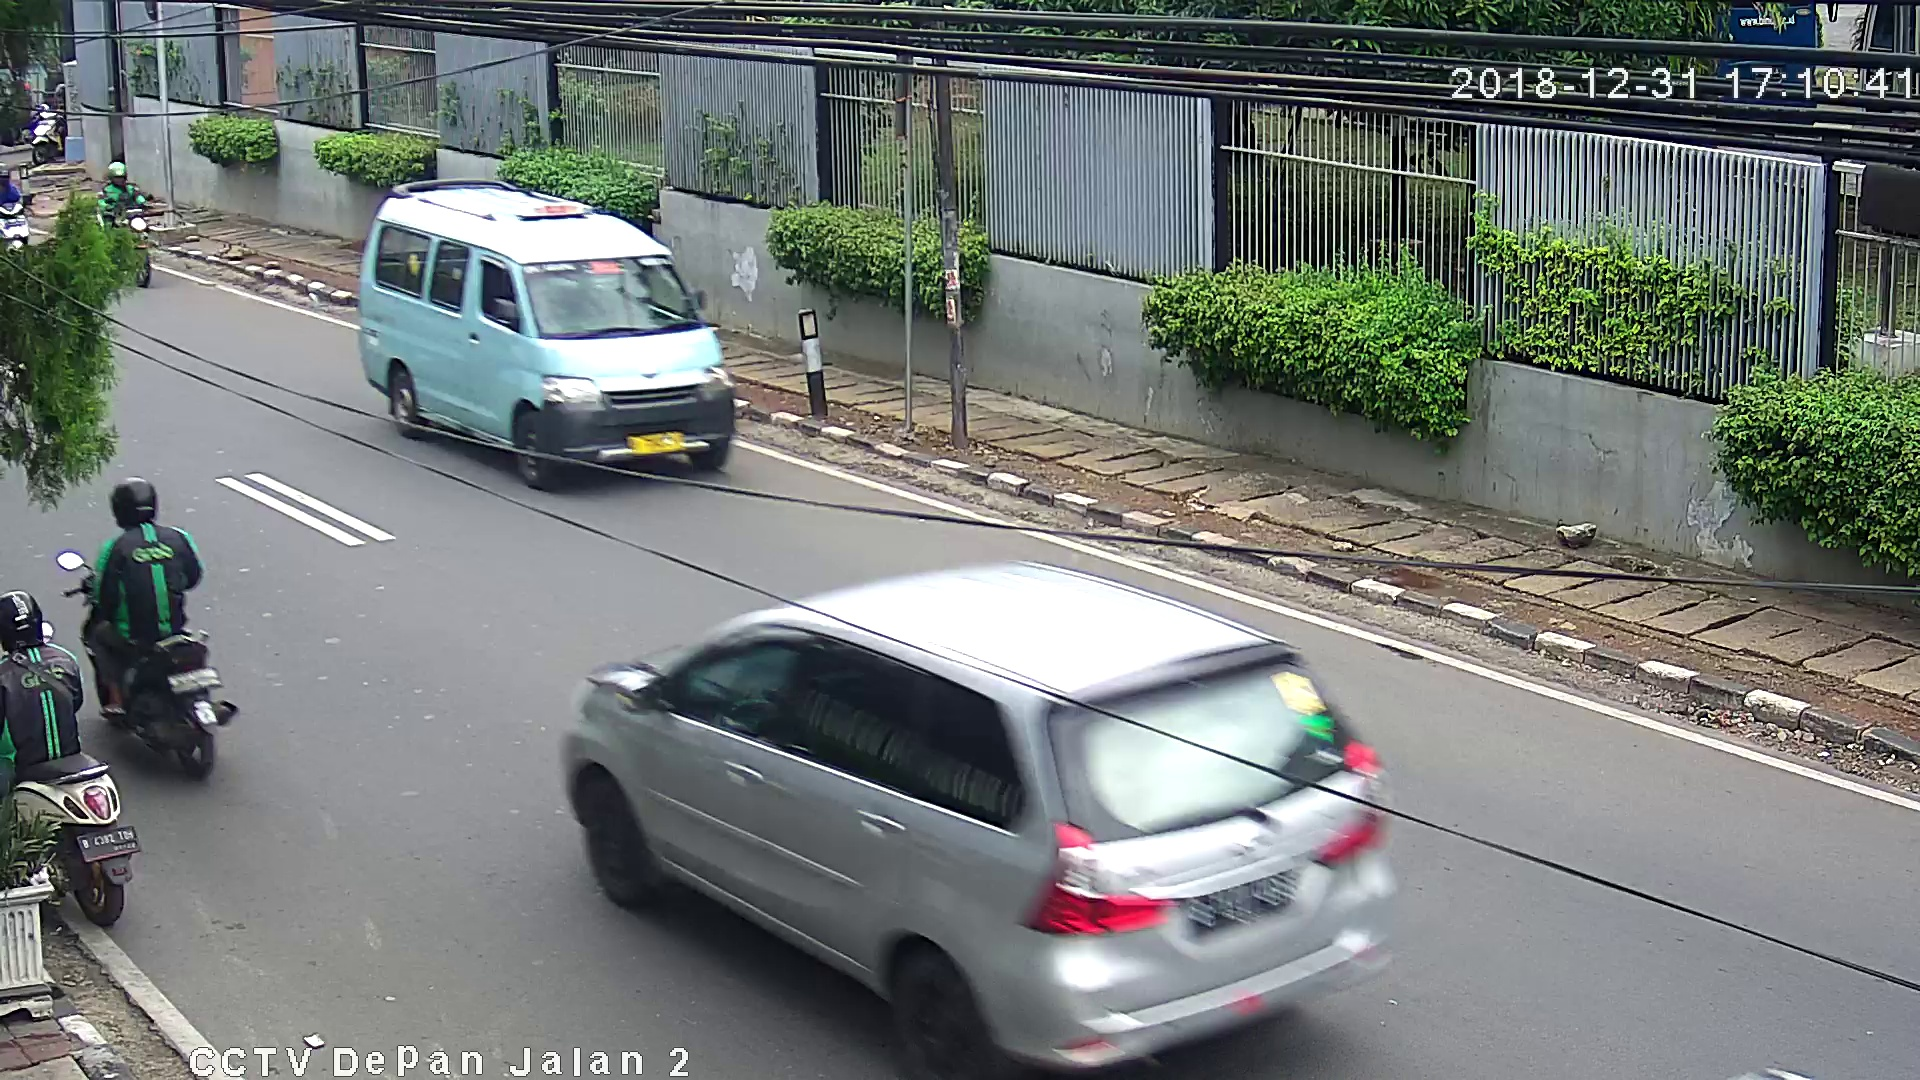car: (560, 556, 1400, 1075), (356, 171, 737, 491)
motorcycle: (61, 477, 247, 795), (1, 591, 144, 924), (88, 156, 157, 291)
